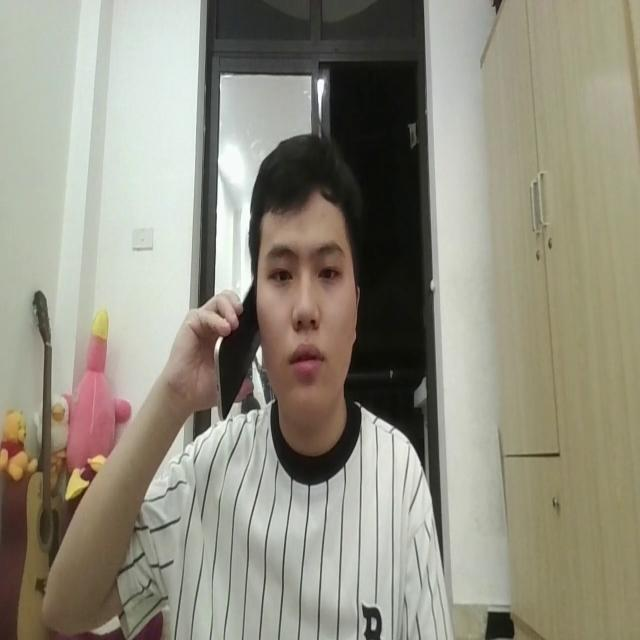phone: (214, 257, 264, 419)
student: (39, 129, 455, 640)
